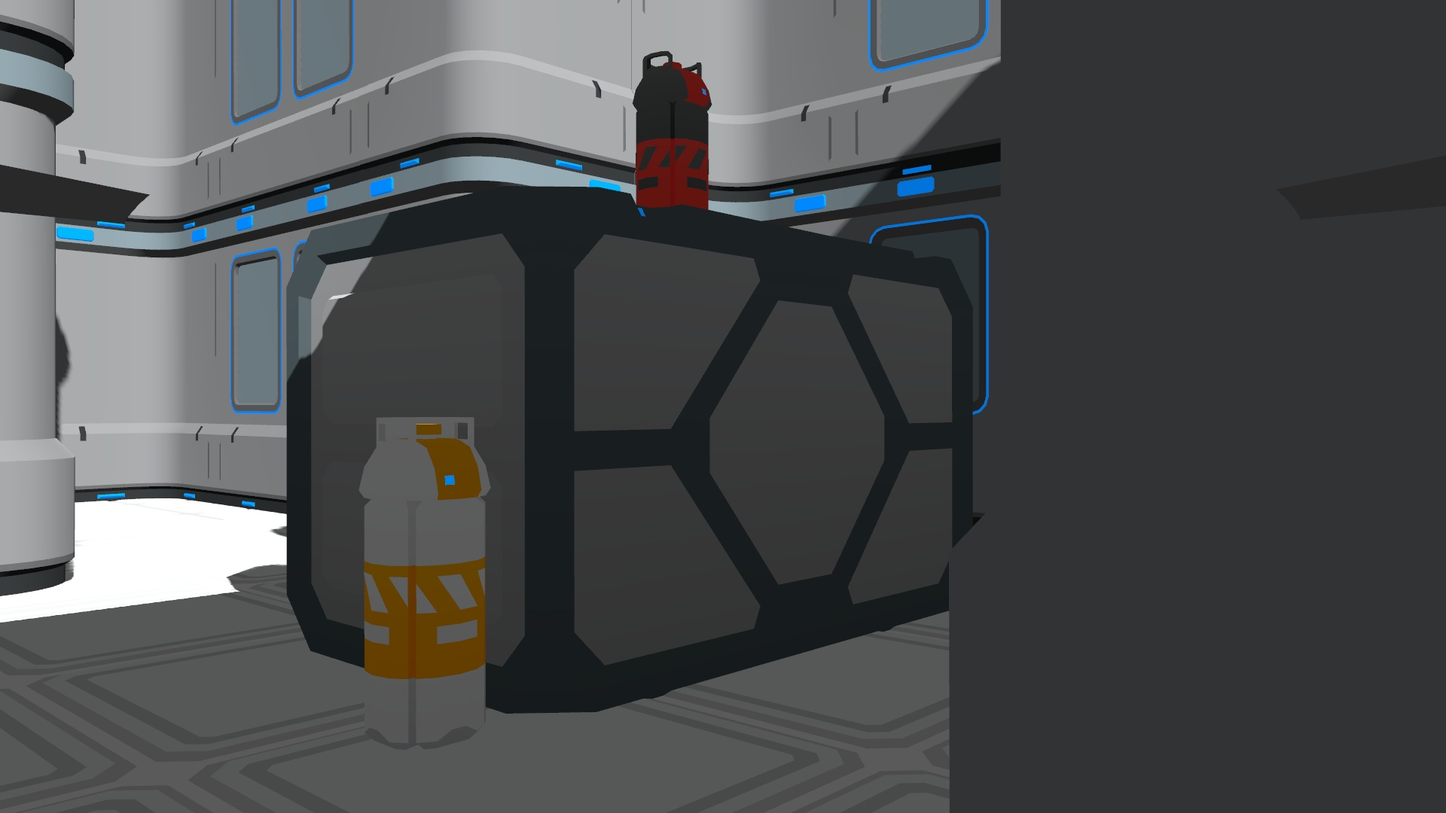red_barrel: (633, 45, 713, 219)
yellow_barrel: (352, 413, 495, 756)
